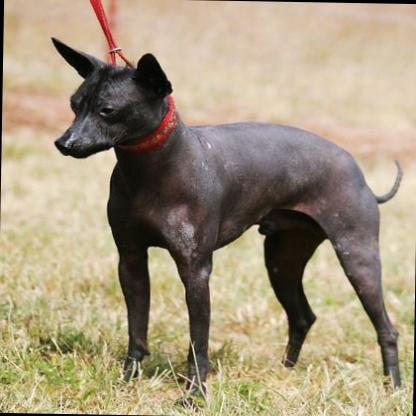Mexican_hairless: (41, 34, 408, 415)
